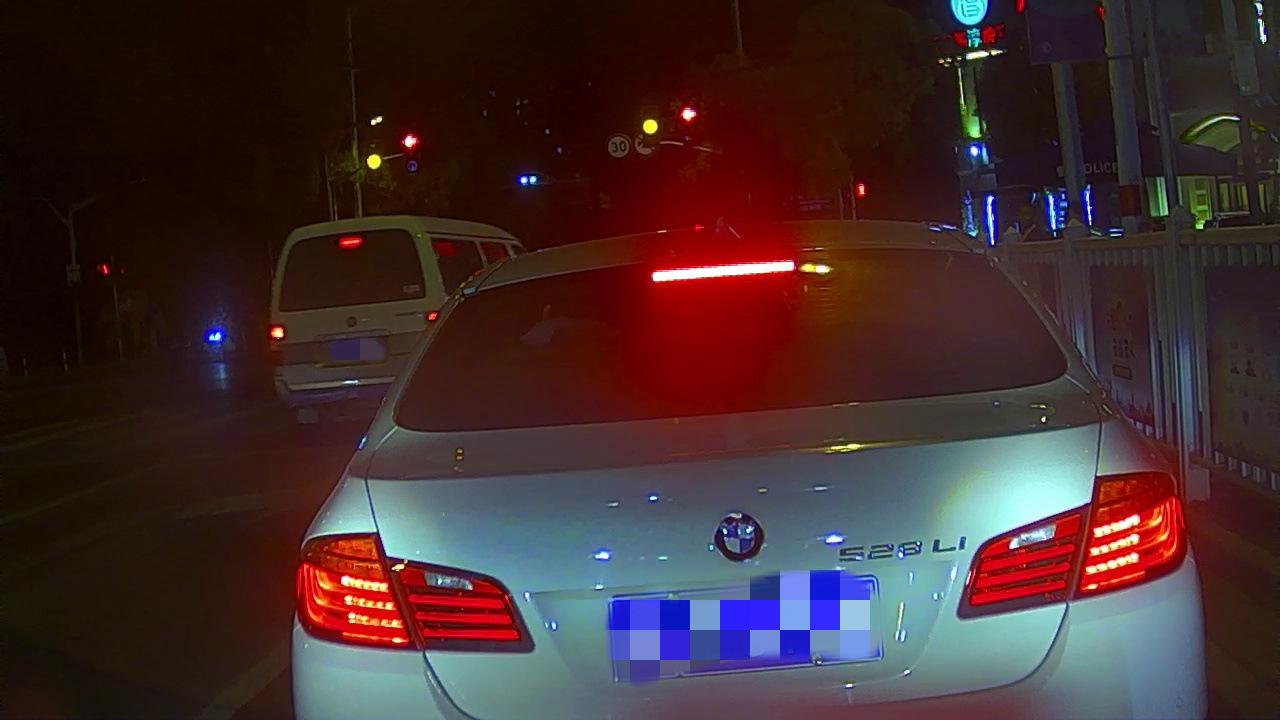traffic_light: (637, 115, 665, 139), (675, 101, 700, 125), (361, 148, 386, 172), (398, 130, 422, 151)
